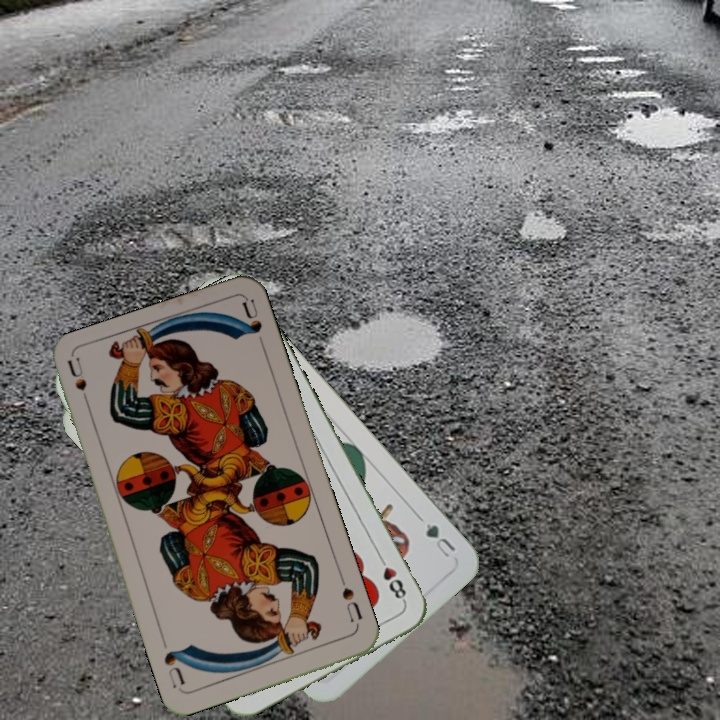GU: (414, 512, 459, 560)
H8: (374, 551, 409, 605)
SU: (64, 355, 94, 415), (336, 573, 365, 625)
